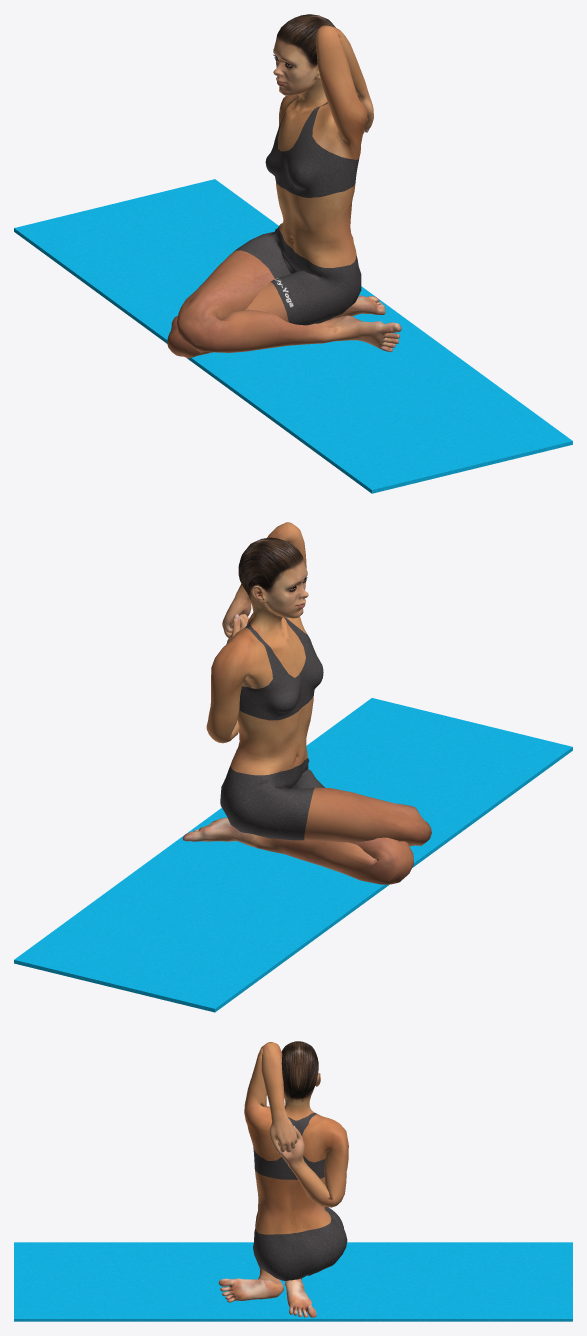
The model's file is gomukhasana.glb.
3 views of the same model, one above another, from view 1: azimuth 30°, elevation 25°; view 2: azimuth 150°, elevation 25°; view 3: azimuth 270°, elevation 25° (orthographic). The views are drawn at different scales.
Visible parts, largest first — view 1: Mat-one-piece_jpg-material, Lily_Texture01_06_2016_jpg-material; view 2: Mat-one-piece_jpg-material, Lily_Texture01_06_2016_jpg-material; view 3: Mat-one-piece_jpg-material, Lily_Texture01_06_2016_jpg-material.
Part boxes in pixels (left/top/right/bottom): Mat-one-piece_jpg-material: left=14, top=179, right=572, bottom=493; Lily_Texture01_06_2016_jpg-material: left=167, top=14, right=401, bottom=358; Mat-one-piece_jpg-material: left=14, top=698, right=572, bottom=1012; Lily_Texture01_06_2016_jpg-material: left=182, top=522, right=431, bottom=884; Mat-one-piece_jpg-material: left=14, top=1242, right=572, bottom=1321; Lily_Texture01_06_2016_jpg-material: left=218, top=1041, right=348, bottom=1317.
Size of the model in its own units: 2.24 by 3.02 by 6.17.
2 materials, 2 textured.
